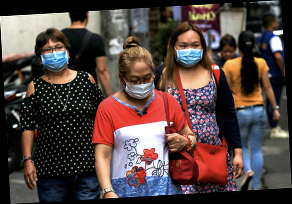with_mask: (123, 71, 155, 100), (173, 38, 204, 67), (39, 42, 68, 73)
without_mask: (221, 48, 236, 61)
